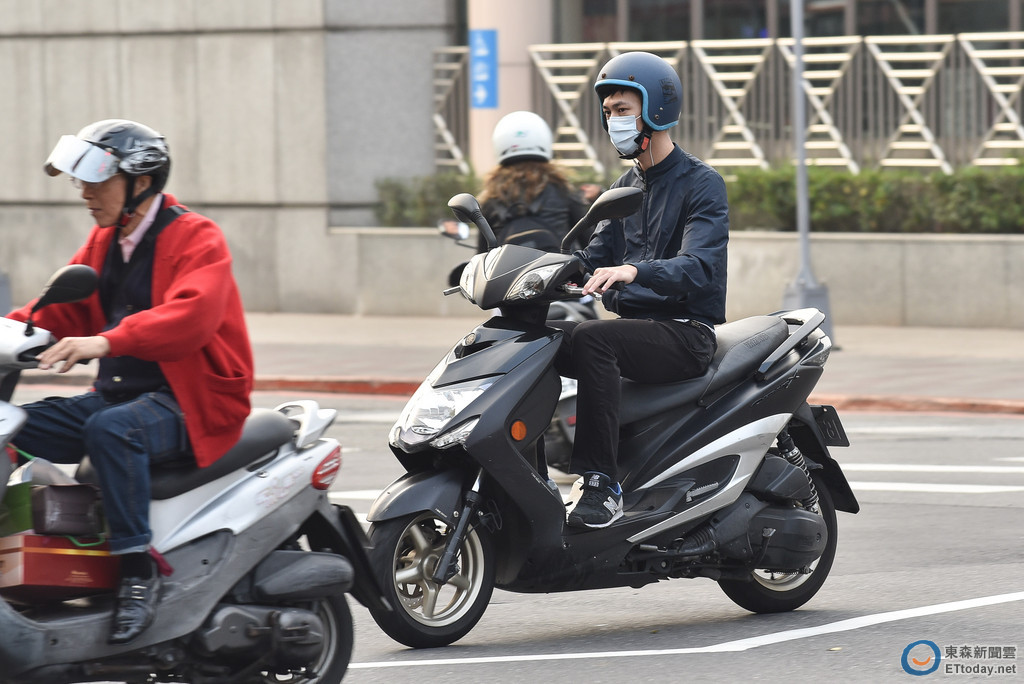helmet: (589, 57, 687, 129), (59, 127, 181, 172), (485, 108, 570, 165)
